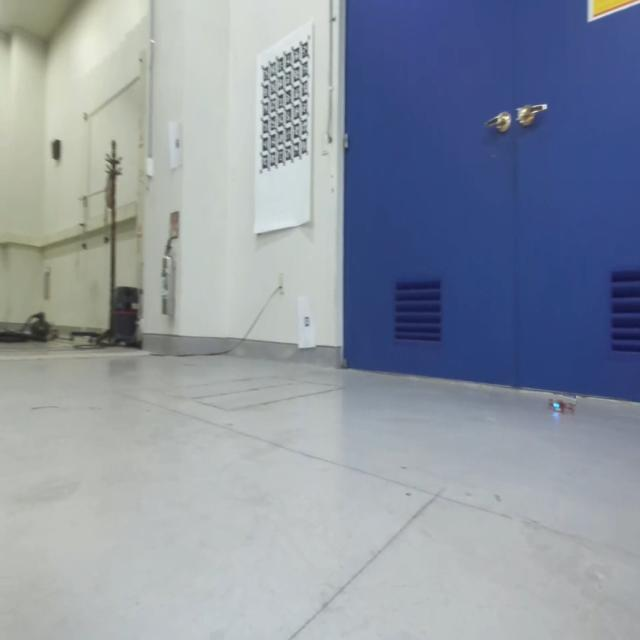crazyflie: (548, 392, 576, 417)
